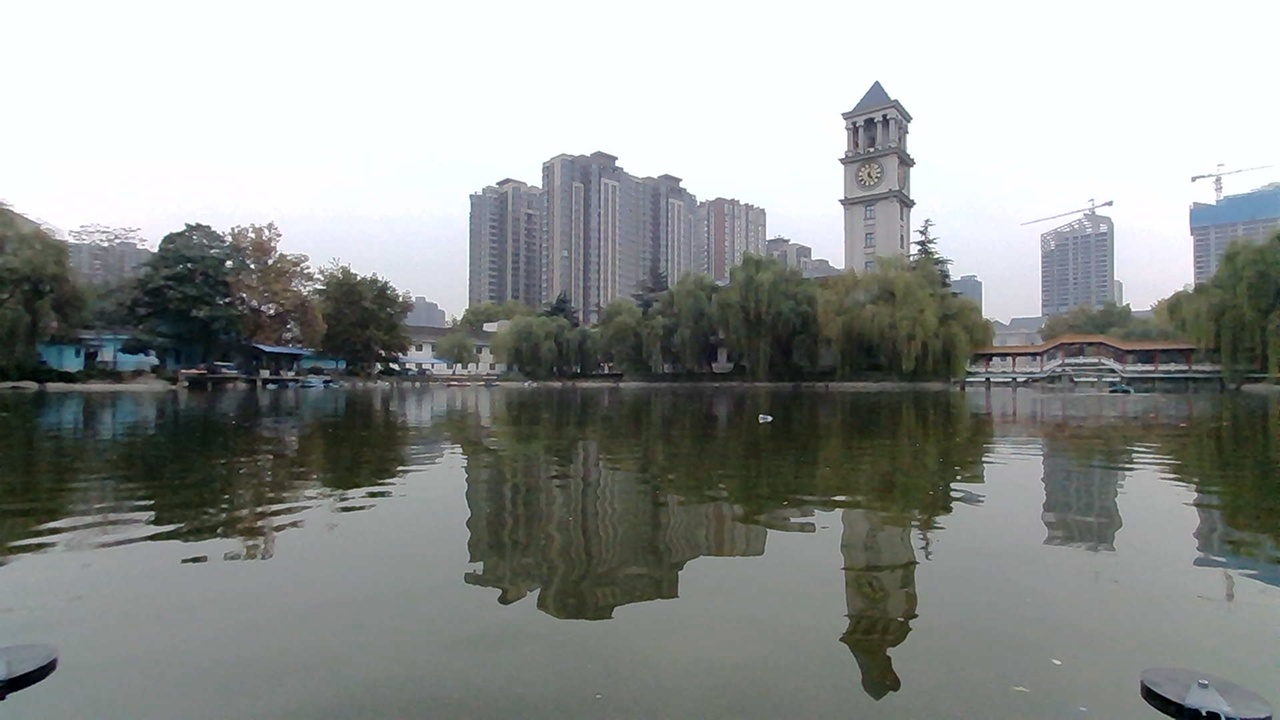bottle: (740, 400, 779, 430)
